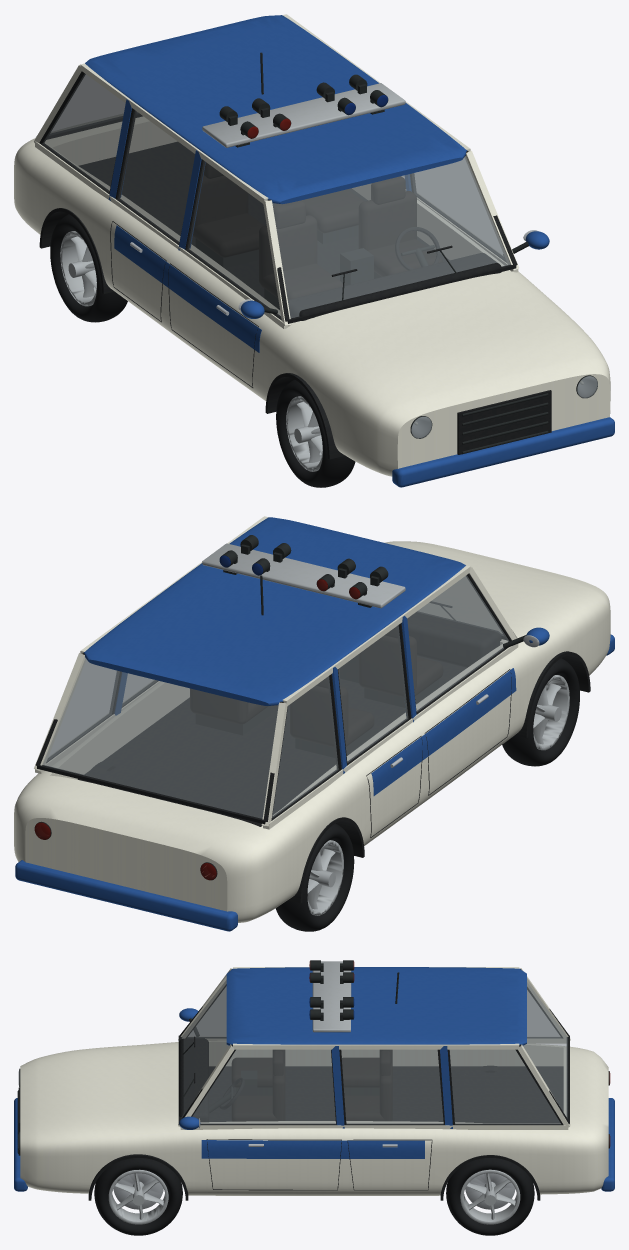
Rendered from car-police.glb.
3 renders of one model, top to bottom at view 1: azimuth 30°, elevation 25°; view 2: azimuth 150°, elevation 25°; view 3: azimuth 270°, elevation 25°, orthographic. The views are drawn at different scales.
Visible parts, largest first — view 1: Patrol headlamp 1 finite white bulb envelope, Patrol bumper 1, Patrol front door glazing 1 finite transparent pane, Patrol cabin floor, Patrol seat back 0 1, Patrol headrest stem 0 1 320, Patrol axle beam 1510.0, Patrol wheel 1510.0 1 rounded tyre carcass, Patrol handle seated foot 1 500 445, Patrol headlamp 1 finite curved optic; view 2: Patrol headlamp 1 finite white bulb envelope, Patrol bumper 1, Patrol front door glazing 1 finite transparent pane, Patrol cabin floor, Patrol headrest stem 0 1 320, Patrol seat back 0 1, Patrol wheel 1510.0 1 rounded tyre carcass, Patrol axle beam 1510.0, Patrol tail lamp 1 finite curved optic; view 3: Patrol headlamp 1 finite white bulb envelope, Patrol front door glazing 1 finite transparent pane, Patrol bumper 1, Patrol cabin floor, Patrol seat back 0 1, Patrol wheel 1510.0 1 rounded tyre carcass, Patrol headrest stem 0 1 320, Patrol axle beam 1510.0, Patrol handle seated foot 1 500 445.
Part boxes in pixels (x1=…): Patrol headlamp 1 finite white bulb envelope: x1=14, y1=14, x2=610, y2=476; Patrol bumper 1: x1=85, y1=15, x2=614, y2=487; Patrol front door glazing 1 finite transparent pane: x1=43, y1=73, x2=510, y2=318; Patrol cabin floor: x1=36, y1=71, x2=551, y2=459; Patrol seat back 0 1: x1=190, y1=162, x2=442, y2=299; Patrol headrest stem 0 1 320: x1=60, y1=83, x2=405, y2=471; Patrol axle beam 1510.0: x1=195, y1=52, x2=597, y2=454; Patrol wheel 1510.0 1 rounded tyre carcass: x1=50, y1=214, x2=355, y2=487; Patrol handle seated foot 1 500 445: x1=130, y1=230, x2=596, y2=437; Patrol headlamp 1 finite curved optic: x1=411, y1=376, x2=597, y2=438; Patrol headlamp 1 finite white bulb envelope: x1=14, y1=516, x2=610, y2=922; Patrol bumper 1: x1=15, y1=517, x2=614, y2=931; Patrol front door glazing 1 finite transparent pane: x1=42, y1=575, x2=509, y2=818; Patrol cabin floor: x1=35, y1=573, x2=590, y2=903; Patrol headrest stem 0 1 320: x1=202, y1=543, x2=569, y2=915; Patrol seat back 0 1: x1=190, y1=626, x2=443, y2=747; Patrol wheel 1510.0 1 rounded tyre carcass: x1=110, y1=658, x2=579, y2=931; Patrol axle beam 1510.0: x1=34, y1=535, x2=526, y2=880; Patrol tail lamp 1 finite curved optic: x1=34, y1=579, x2=360, y2=880; Patrol headlamp 1 finite white bulb envelope: x1=20, y1=967, x2=608, y2=1195; Patrol front door glazing 1 finite transparent pane: x1=181, y1=980, x2=567, y2=1124; Patrol bumper 1: x1=14, y1=967, x2=614, y2=1191; Patrol cabin floor: x1=18, y1=969, x2=569, y2=1200; Patrol seat back 0 1: x1=231, y1=1049, x2=392, y2=1121; Patrol wheel 1510.0 1 rounded tyre carcass: x1=94, y1=1158, x2=534, y2=1235; Patrol headrest stem 0 1 320: x1=108, y1=961, x2=520, y2=1224; Patrol axle beam 1510.0: x1=17, y1=960, x2=609, y2=1153; Patrol handle seated foot 1 500 445: x1=113, y1=1118, x2=515, y2=1209.
Size of the model in its own units: 2.35 by 2.07 by 5.16.
14 materials, 10 textured.
